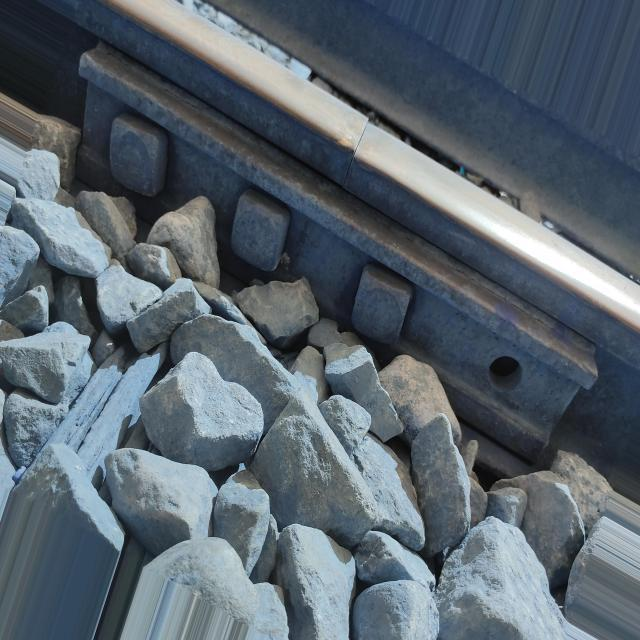Defective Joint: (68, 41, 593, 465)
